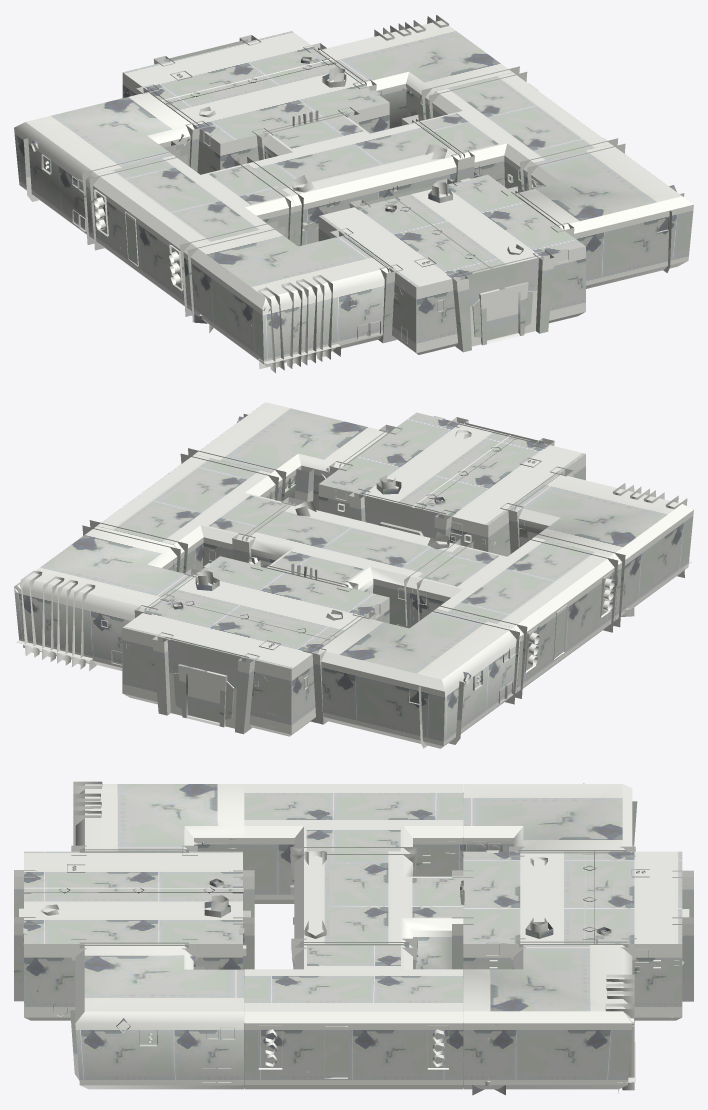
The model's file is Combined_Mesh_root_scene__21_87b8b529__zombies2_diffuse_11_814463c1_c1f257.obj.
3 renders of one model, top to bottom at view 1: azimuth 30°, elevation 25°; view 2: azimuth 150°, elevation 25°; view 3: azimuth 270°, elevation 25°, orthographic. The views are drawn at different scales.
Bounding box in the file's own units: 52.07 × 9.64 × 62.1.
Materials: 148 (148 with a texture image).
